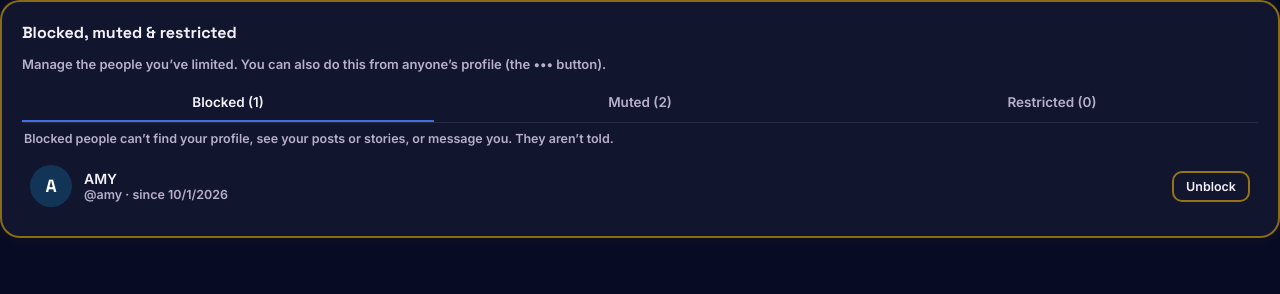
Test: Settings: blocked / muted / restricted › shows each list with counts and lets me undo one
Expected: the text "AMY" is shown, [84,170,117,187]
Expected: the tab "Blocked (1)" is shown, [22,84,434,122]
Click the button named "Unblock @amy" at (1211, 186), box [1172,170,1250,202]
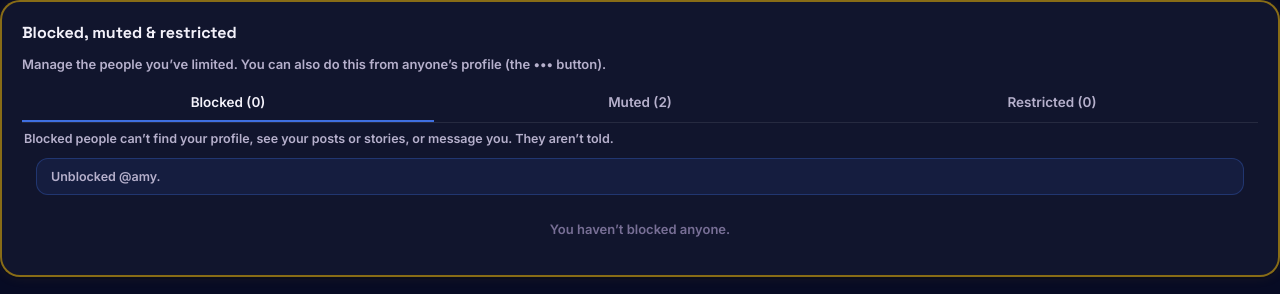
Expected: the text "You haven’t blocked anyone." is shown, [550,221,730,237]
Expected: the message reads "Unblocked @amy.", [51,169,160,184]
Expected: the tab "Blocked (0)" is shown, [22,84,434,122]
